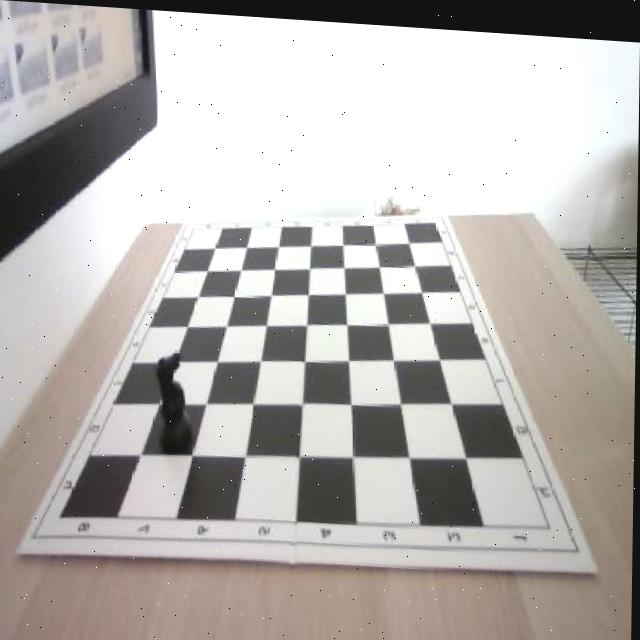black-king: (155, 345, 198, 452)
